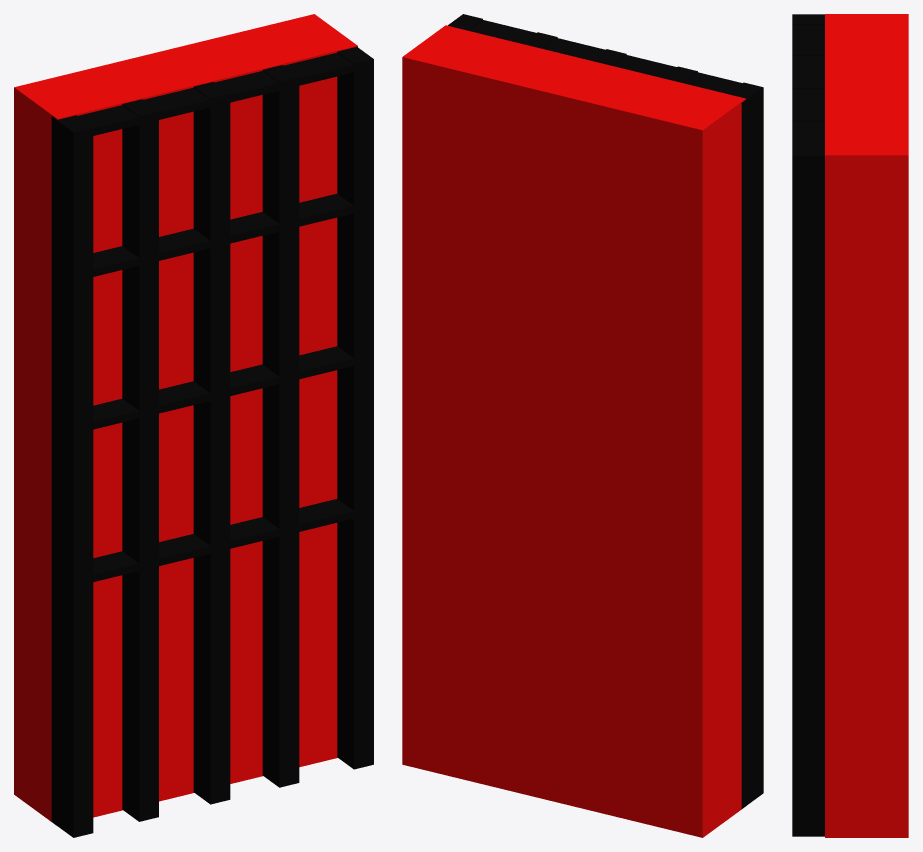
Rendered from version 2 high pop small.fbx.
The picture shows the model from 3 angles, left to right: view 1: azimuth 30°, elevation 25°; view 2: azimuth 150°, elevation 25°; view 3: azimuth 270°, elevation 25°; orthographic projection. The views are drawn at different scales.
Parts seen in each view (by area): view 1: pCube10; view 2: pCube10; view 3: pCube10.
Part boxes in pixels (x1=…): pCube10: x1=14, y1=14, x2=373, y2=837; pCube10: x1=402, y1=14, x2=763, y2=837; pCube10: x1=792, y1=14, x2=908, y2=837.
Size of the model in its own units: 2005 by 4500 by 694.
